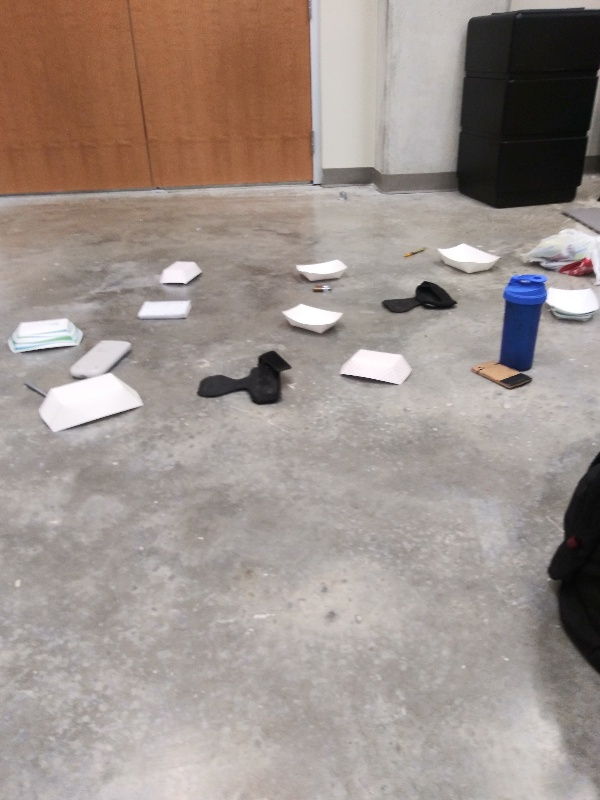plate: (36, 368, 148, 438), (5, 311, 86, 359), (333, 344, 417, 390), (431, 240, 506, 279), (278, 299, 348, 339), (542, 281, 600, 329), (286, 256, 353, 286), (157, 256, 207, 291)
